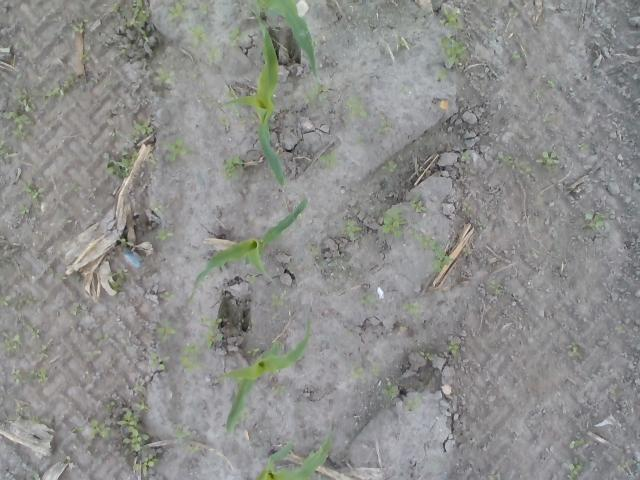Maize: (218, 318, 312, 435), (226, 11, 286, 188), (191, 198, 307, 287), (254, 0, 322, 77), (256, 432, 333, 480)
Weeds: (380, 206, 450, 274), (103, 396, 160, 472), (102, 117, 154, 183), (0, 88, 34, 142), (432, 34, 468, 82), (110, 0, 152, 34), (34, 71, 76, 101), (0, 293, 47, 319), (176, 340, 204, 378), (198, 314, 224, 351), (343, 92, 373, 122), (174, 423, 200, 456), (9, 366, 49, 386), (164, 134, 190, 163), (74, 416, 104, 441), (439, 5, 466, 32), (0, 327, 25, 356), (302, 79, 328, 105), (152, 318, 178, 344), (19, 176, 46, 201), (220, 154, 244, 182), (152, 63, 178, 87), (166, 0, 194, 22), (198, 85, 222, 109), (582, 208, 606, 232), (338, 214, 362, 238), (224, 24, 248, 48), (146, 350, 170, 374), (108, 264, 128, 292), (0, 128, 16, 162), (535, 150, 559, 169), (190, 23, 208, 48), (206, 42, 224, 66), (399, 302, 421, 320), (0, 240, 20, 259), (319, 150, 338, 170), (566, 340, 584, 360), (380, 158, 400, 175), (28, 412, 49, 428), (376, 118, 394, 136), (350, 366, 368, 384), (358, 287, 377, 304), (15, 398, 32, 417), (568, 434, 591, 448), (270, 292, 290, 308), (25, 323, 41, 343), (402, 397, 422, 412), (306, 240, 322, 258), (410, 196, 426, 214), (222, 86, 240, 102), (70, 17, 88, 33), (130, 376, 146, 394), (30, 344, 48, 360), (391, 32, 408, 48), (568, 463, 584, 480), (488, 278, 503, 296), (446, 335, 461, 353), (384, 382, 398, 401), (158, 290, 178, 303), (80, 48, 96, 64), (240, 408, 258, 422), (270, 383, 288, 397), (216, 113, 232, 128), (154, 228, 172, 241), (240, 270, 258, 283), (242, 344, 260, 357), (79, 349, 102, 359), (95, 332, 114, 344), (542, 112, 556, 128), (609, 382, 620, 402), (520, 158, 532, 176), (64, 181, 82, 193), (14, 202, 32, 214), (149, 200, 162, 215), (370, 364, 382, 380), (70, 302, 82, 318), (543, 79, 560, 90), (82, 368, 93, 385), (198, 2, 210, 17), (610, 322, 626, 333), (510, 50, 522, 64), (48, 30, 65, 39), (502, 155, 512, 169), (118, 238, 132, 248), (418, 350, 432, 360), (486, 471, 501, 480), (506, 6, 518, 17), (576, 142, 588, 153), (230, 108, 242, 119), (31, 468, 42, 480), (57, 272, 70, 282), (616, 461, 629, 471), (461, 150, 472, 161), (343, 327, 355, 337), (461, 246, 473, 256), (216, 370, 224, 384), (398, 82, 408, 93), (94, 208, 106, 217), (354, 136, 366, 145), (15, 70, 24, 81), (398, 322, 408, 331), (190, 72, 200, 81), (238, 118, 246, 128), (142, 33, 150, 42), (479, 223, 486, 232)
